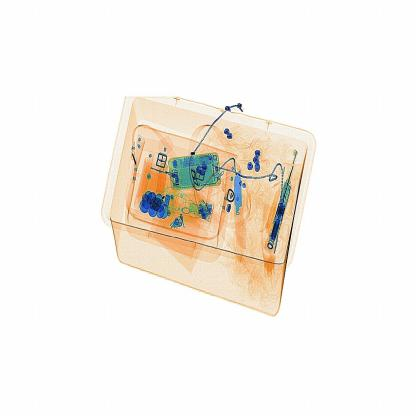wrench: (234, 168, 250, 248)
